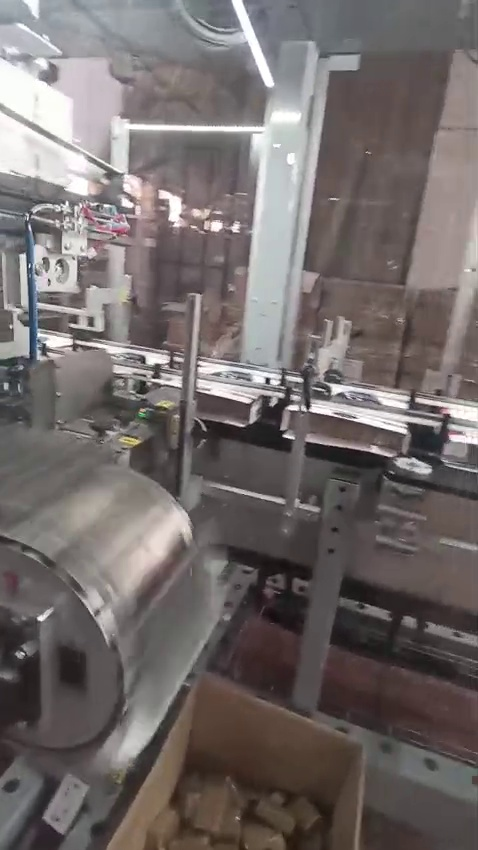savon: (105, 686, 384, 850), (373, 317, 398, 346), (156, 401, 176, 435), (118, 435, 148, 452)
